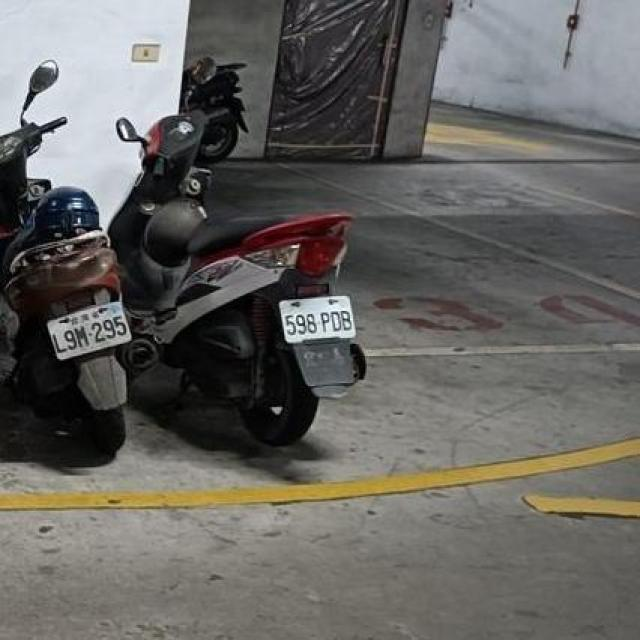W: (39, 290, 134, 362), (272, 285, 360, 347)
